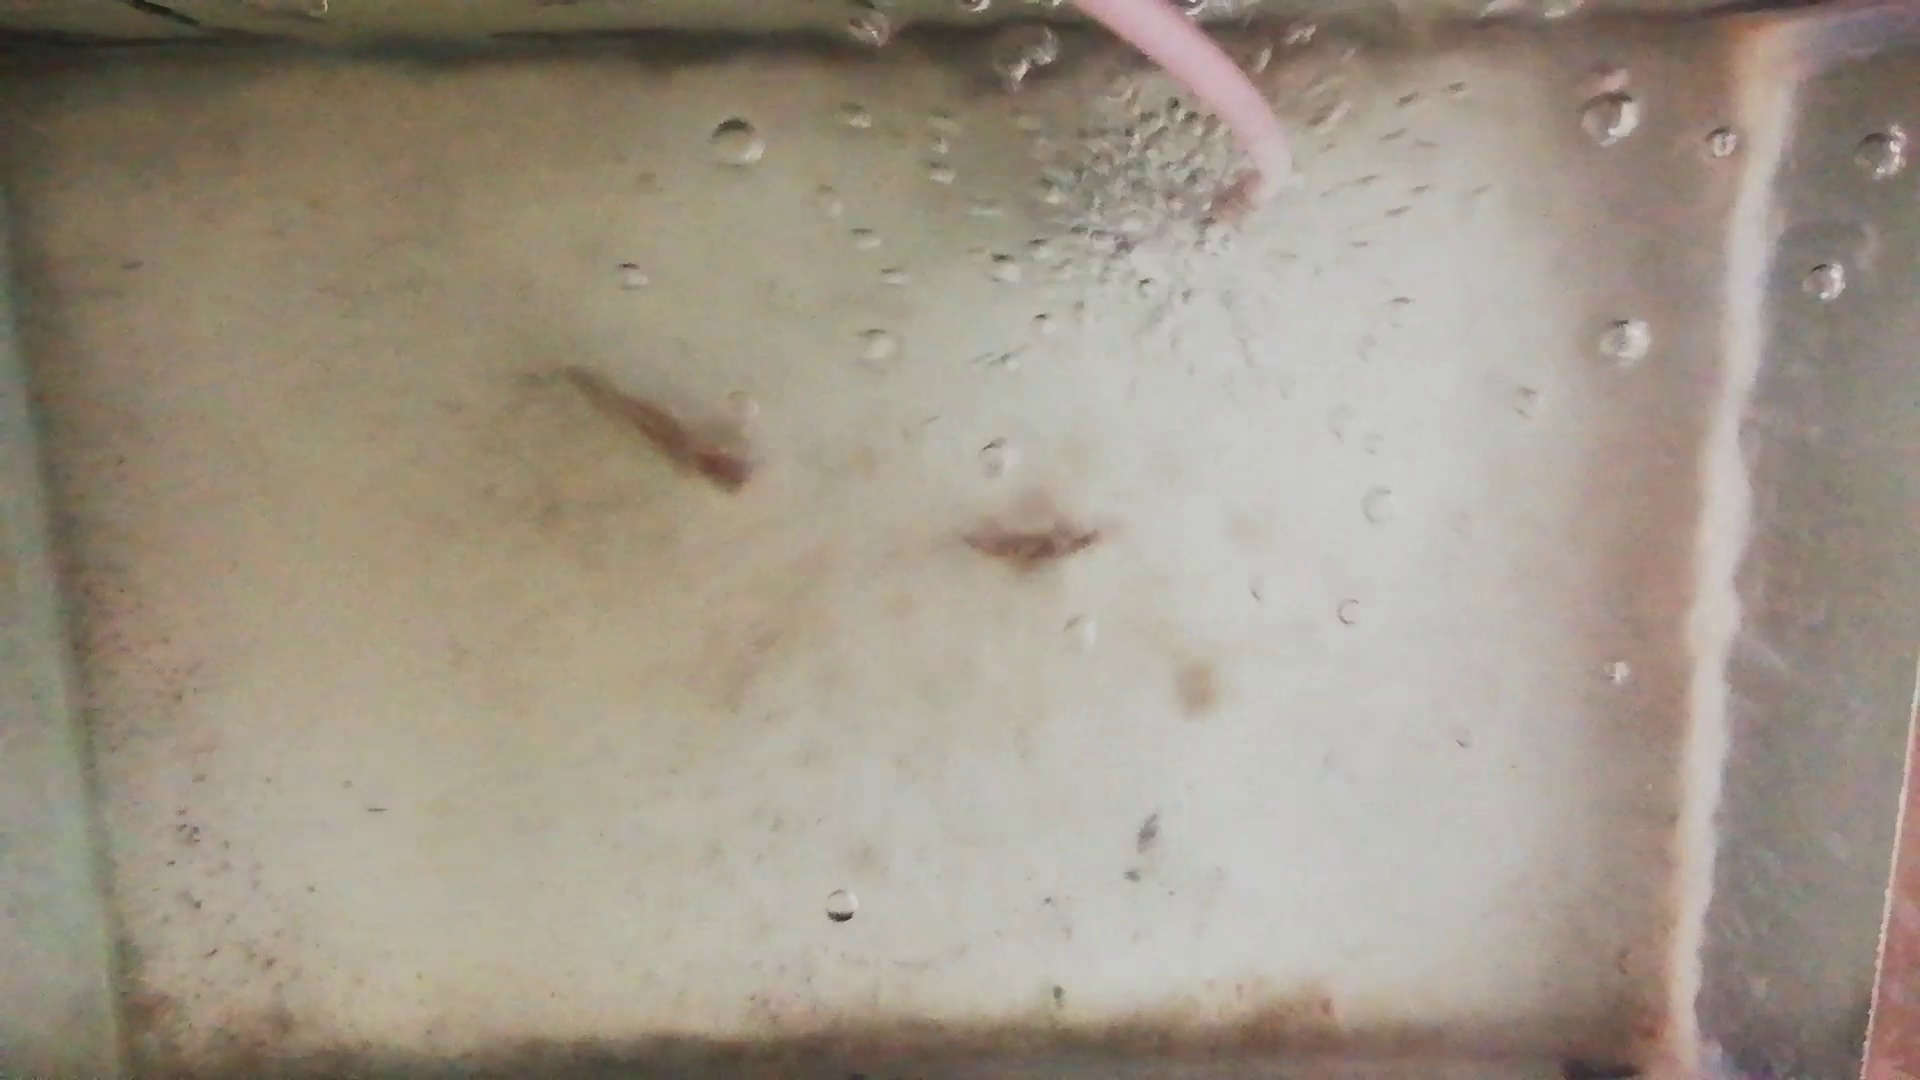fish: (553, 363, 758, 498), (951, 527, 1102, 566)
